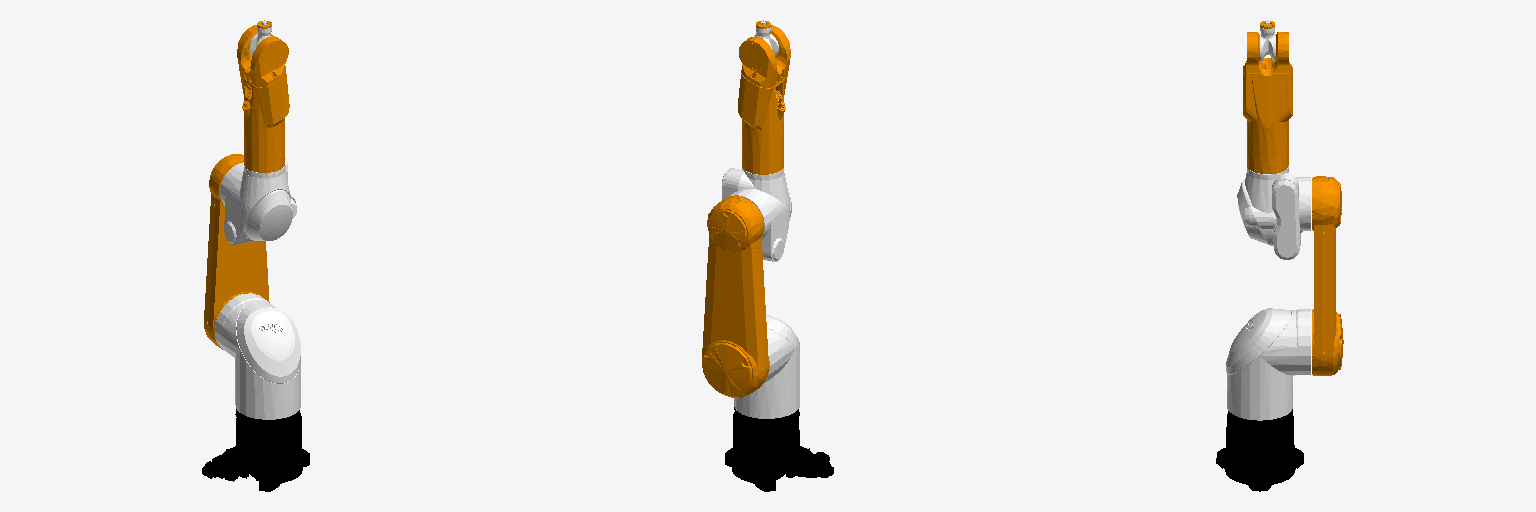
robot.urdf — TX60L:
<?xml version="1.0"?>
<robot name="TX60L">

<link name="base_link" >
	<visual>
		<geometry>
			<mesh filename="package://tx60l_urdf/meshes/bt.stl"/>
		</geometry>
		<origin xyz="0 0 0" rpy="0 0 0" />
		<material name="black">
		<color rgba="0 0 0 1"/>
		</material>
	</visual>
	<collision>
		<geometry>
			<mesh filename="package://tx60l_urdf/meshes/bt_col.stl"/>
		</geometry>
		<origin xyz="0 0 0" rpy="0 0 0" />
	</collision>
</link>

<joint name="joint_1" type="revolute">
	<parent link="base_link"/>
	<child link="at1"/>
	<origin xyz="0 0 0.375" rpy="0 0 3.1416" />
	<axis xyz="0 0 1" />
	<limit lower="-3.1241" upper="3.1241" effort="100" velocity="435" />
</joint>

<link name="at1" >
	<visual>
		<geometry>
			<mesh filename="package://tx60l_urdf/meshes/at1.stl"/>
		</geometry>
		<origin xyz="0 0 0" rpy="4.7124 0 3.1416" />
		<material name="white">
		<color rgba="1 1 1 1"/>
		</material>
	</visual>
	<collision>
		<geometry>
			<mesh filename="package://tx60l_urdf/meshes/at1_col.stl"/>
		</geometry>
		<origin xyz="0 0 0" rpy="4.7124 0 3.1416" />
	</collision>
</link>

<joint name="joint_2" type="revolute">
	<parent link="at1"/>
	<child link="at2"/>
	<origin xyz="0 0 0" rpy="0 0 0" />
	<axis xyz="0 -1 0" />
	<limit lower="-2.2078" upper="2.2078" effort="100" velocity="385" />
</joint>

<link name="at2" >
	<visual>
	<geometry>
		<mesh filename="package://tx60l_urdf/meshes/at2.stl"/>
	</geometry>
	<origin xyz="0 0 0" rpy="1.5708 3.1416 0" />
	<material name="orange">
		<color rgba="1 0.6 0 1"/>
	</material>
	</visual>

<collision>
	<geometry>
		<mesh filename="package://tx60l_urdf/meshes/at2_col.stl"/>
	</geometry>
	<origin xyz="0 0 0" rpy="1.5708 3.1416 0" />
</collision>
</link>

<joint name="joint_3" type="revolute">
	<parent link="at2"/>
	<child link="at3"/>
	<origin xyz="0 0.02 0.400" rpy="0 0 0" />
	<axis xyz="0 -1 0" />
	<limit lower="-2.6442" upper="2.6442" effort="100" velocity="500" />
</joint>

<link name="at3" >
	<visual>
	<geometry>
		<mesh filename="package://tx60l_urdf/meshes/at3.stl"/>
	</geometry>
	<origin xyz="0 -0.04 0" rpy="4.7124 0 3.1416"/>
	<material name="white">
		<color rgba="1 1 1 1"/>
	</material>
	</visual>
	<collision>
		<geometry>
			<mesh filename="package://tx60l_urdf/meshes/at3_col.stl"/>
		</geometry>
		<origin xyz="0 -0.04 0" rpy="4.7124 0 3.1416" />
	</collision>
</link>

<joint name="joint_4" type="revolute">
	<parent link="at3"/>
	<child link="at4"/>
	<origin xyz="0 -0.04 0" rpy="0 0 3.1416" />
	<axis xyz="0 0 1" />
	<limit lower="-4.6949" upper="4.6949" effort="100" velocity="995" />
</joint>

<link name="at4" >
	<visual>
		<geometry>
			<mesh filename="package://tx60l_urdf/meshes/at4.stl"/>
		</geometry>
		<origin xyz="0 0 0" rpy="0 0 0"/>
		<material name="orange">
			<color rgba="1 0.6 0 1"/>
		</material>
	</visual>
	<collision>
		<geometry>
			<mesh filename="package://tx60l_urdf/meshes/at4_col.stl"/>
		</geometry>
		<origin xyz="0 0 0" rpy="0 0 0" />
	</collision>
</link>

<joint name="joint_5" type="revolute">
	<parent link="at4"/>
	<child link="at5"/>
	<origin xyz="0 0 0.450" rpy="0 0 0" />
	<axis xyz="0 1 0" />
	<limit lower="-2.2078" upper="2.2951" effort="100" velocity="1065" />
</joint>

<link name="at5" >
	<visual>
		<geometry>
			<mesh filename="package://tx60l_urdf/meshes/at5.stl"/>
		</geometry>
		<origin xyz="0 0 0" rpy="-1.57079635 0 0"/>
		<material name="white">
			<color rgba="1 1 1 1"/>
		</material>
	</visual>
	<collision>
		<geometry>
			<mesh filename="package://tx60l_urdf/meshes/at5_col.stl"/>
		</geometry>
		<origin xyz="0 0 0" rpy="-1.57079635 0 0" />
	</collision>
</link>

<joint name="joint_6" type="revolute">
	<parent link="at5"/>
	<child link="at6"/>
	<origin xyz="0 0 0.07" rpy="0 0 0" />
	<axis xyz="0 0 1" />
	<limit lower="-4.6949" upper="4.6949" effort="100" velocity="1445" />
</joint>

<link name="at6" >
	<visual>
		<geometry>
			<mesh filename="package://tx60l_urdf/meshes/at6.stl"/>
		</geometry>
		<origin xyz="0 0 0" rpy="0 0 0"/>
		<material name="orange">
			<color rgba="1 0.6 0 1"/>
		</material>
	</visual>
	<collision>
		<geometry>
			<mesh filename="package://tx60l_urdf/meshes/at6.stl"/>
		</geometry>
		<origin xyz="0 0 0" rpy="0 0 0" />
	</collision>
</link>

<joint name="joint_7" type="fixed">
	<parent link="at6"/>
	<child link="dummy"/>
	<origin xyz="0 0 0" rpy="0 0 0" />
</joint>

<link name="dummy" >
	<visual>
		<geometry>
			<box size="0.01 0.01 0.01" />
		</geometry>
	<material name="invisible">
		<color rgba="1 1 1 0"/>
	</material>
	</visual>
	<collision>
		<geometry>
			<box size="0.01 0.01 0.01" />
		</geometry>
	</collision>
</link>

</robot>

--- Render facts (derived) ---
Views: 3 orthographic renders of the robot side by side, from view 1: azimuth 30°, elevation 25°; view 2: azimuth 150°, elevation 25°; view 3: azimuth 270°, elevation 25°.
Model TX60L with 8 links and 7 joints (6 revolute, 1 fixed), rooted at base_link, posed all joints at 0.
Visible links, largest first — view 1: at1, at4, at2, base_link, at3; view 2: at2, at4, base_link, at1, at3; view 3: at1, at4, at2, at3, base_link.
Boxes of the visible links, left/top/right/bottom form: at1: left=214, top=293, right=300, bottom=419; at4: left=237, top=25, right=289, bottom=172; at2: left=204, top=154, right=269, bottom=349; base_link: left=202, top=409, right=309, bottom=491; at3: left=220, top=159, right=296, bottom=244; at2: left=702, top=195, right=769, bottom=397; at4: left=738, top=25, right=790, bottom=174; base_link: left=725, top=407, right=833, bottom=491; at1: left=734, top=315, right=799, bottom=418; at3: left=722, top=168, right=791, bottom=261; at1: left=1226, top=308, right=1310, bottom=420; at4: left=1243, top=32, right=1292, bottom=173; at2: left=1312, top=176, right=1343, bottom=375; at3: left=1237, top=166, right=1310, bottom=259; base_link: left=1216, top=409, right=1303, bottom=491.
Bounding box of the posed robot: 0.3155 × 0.3331 × 1.3 m (x, y, z).
7 mesh visuals loaded from 7 distinct referenced files (7 binary STL).